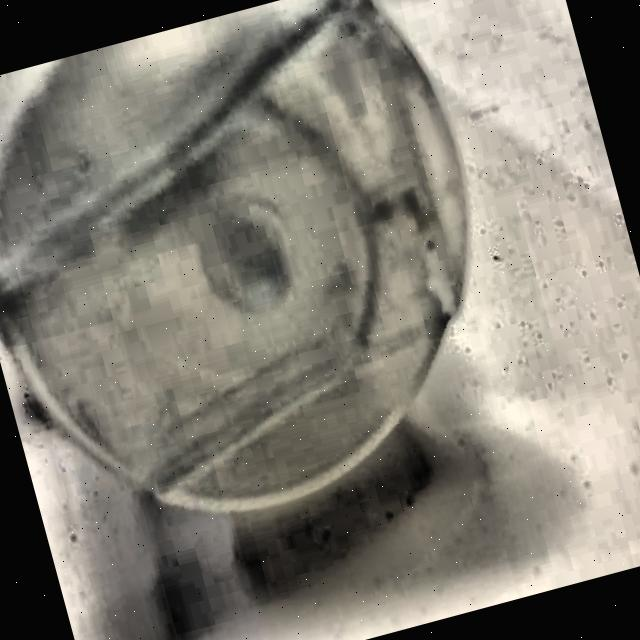plastic: (0, 0, 533, 554)
